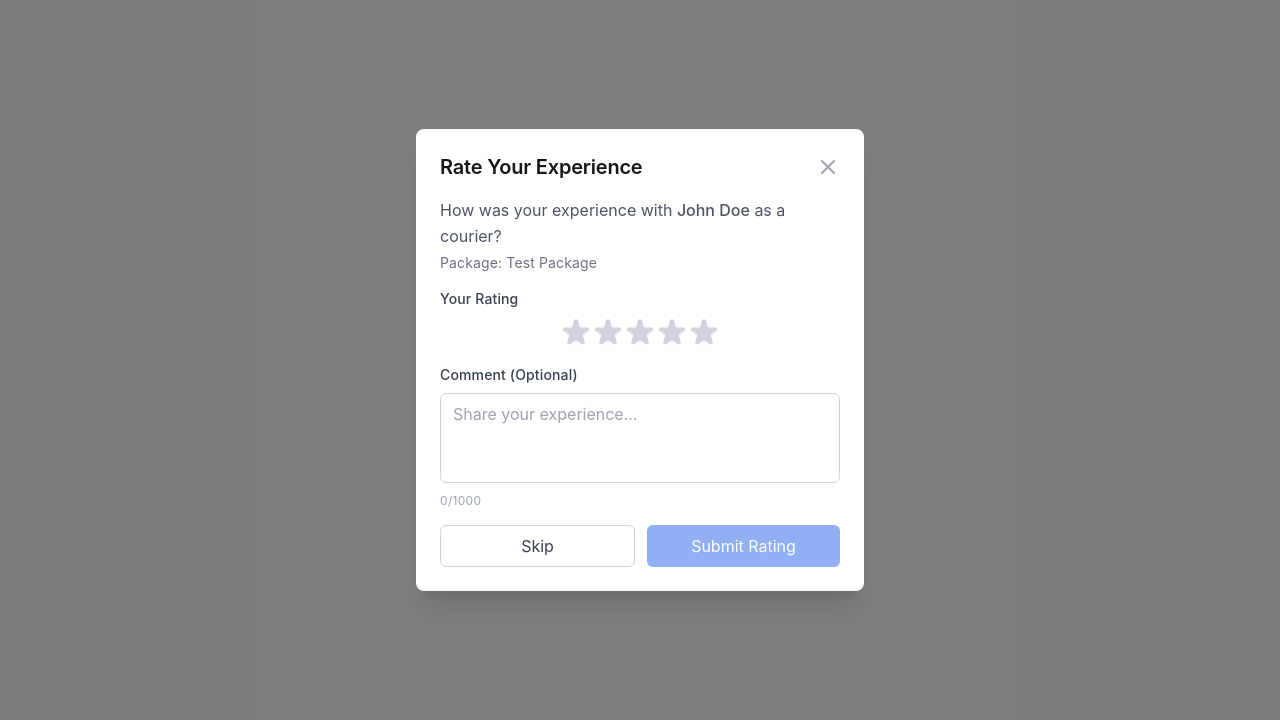
Test: RatingModal › shows generic error on API failure without detail
Select a rating
Click the button named "3 stars".
click(640, 333)  # box [624, 317, 656, 349]
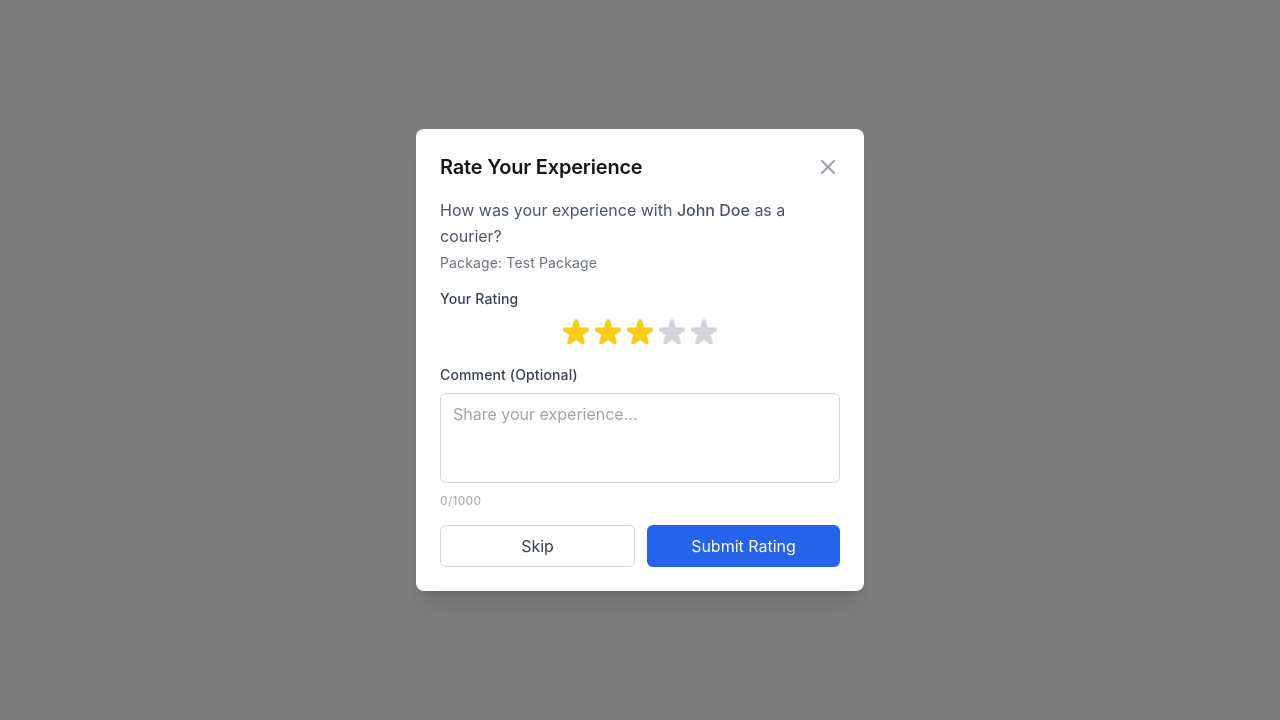
Click the button "Submit Rating".
click(744, 546)  # box [647, 525, 840, 567]
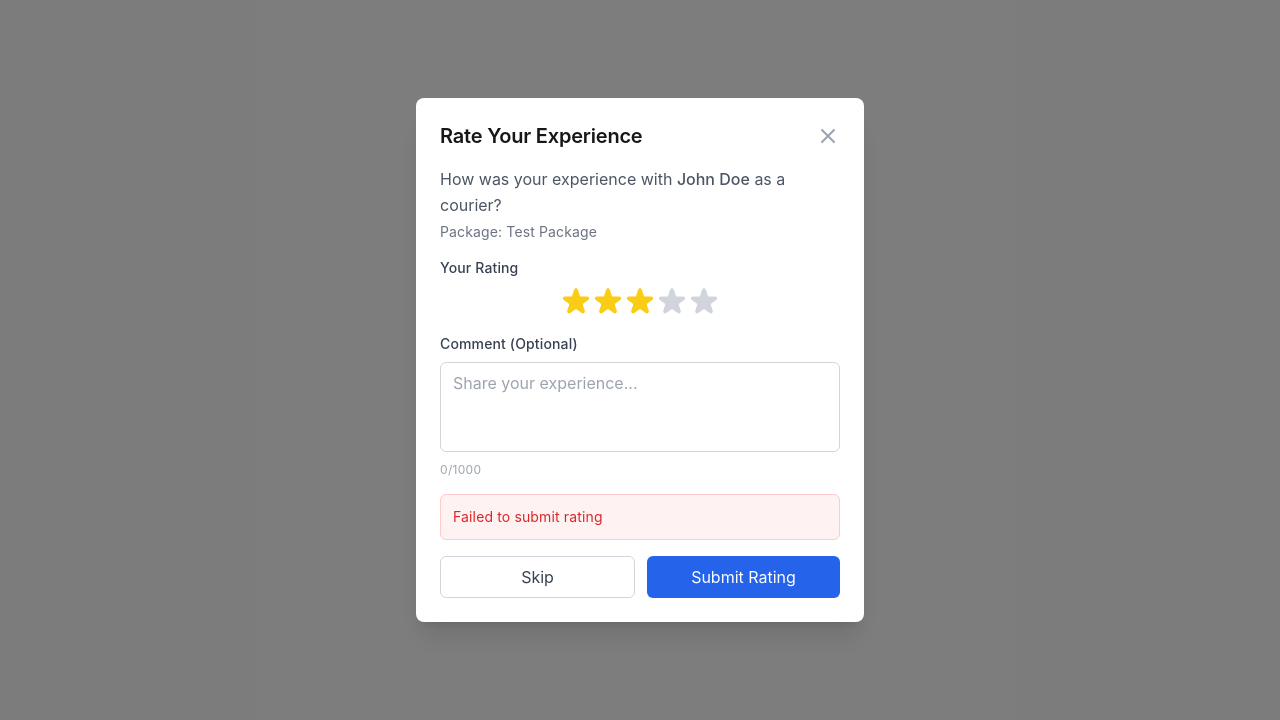
expect the text "Failed to submit rating" is shown: met, box [453, 508, 603, 525]
